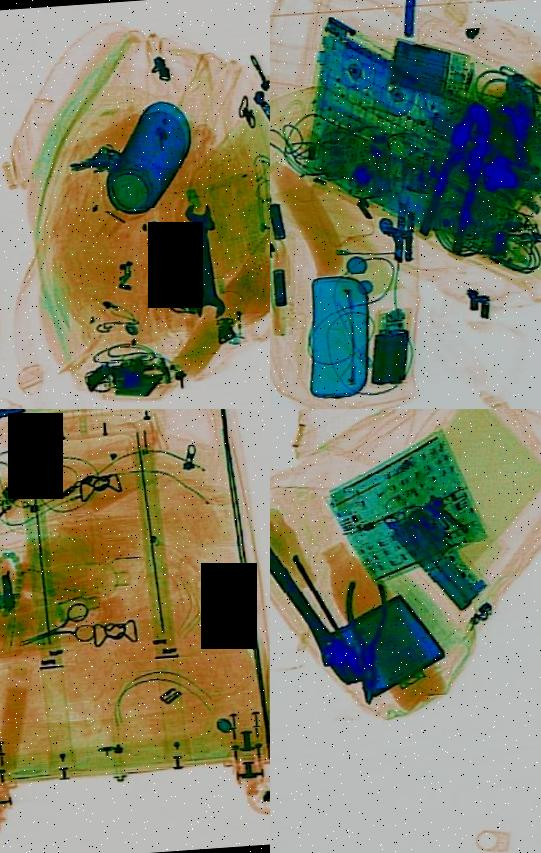Pliers: (400, 92, 510, 256), (337, 576, 393, 706)
Scissors: (14, 594, 96, 665)
Wrench: (270, 498, 367, 701), (181, 201, 224, 318)
